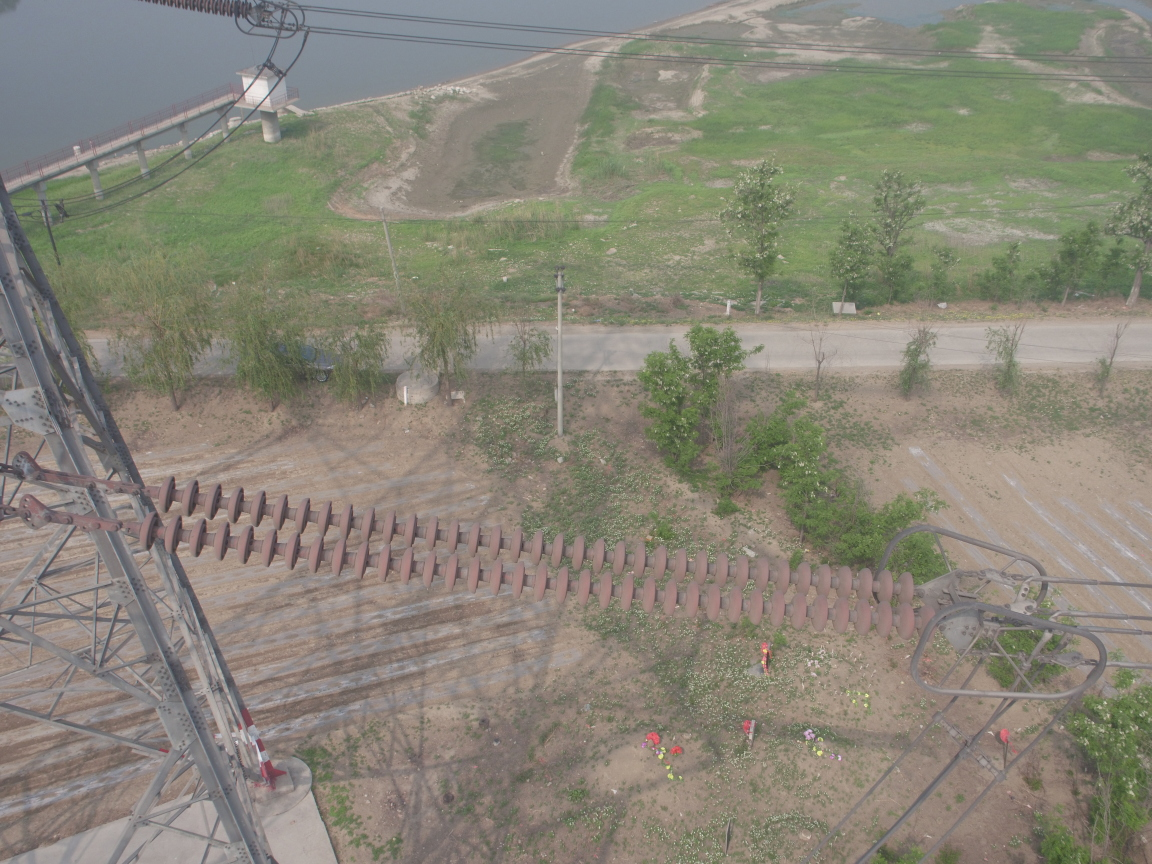insulator: (82, 468, 962, 648)
